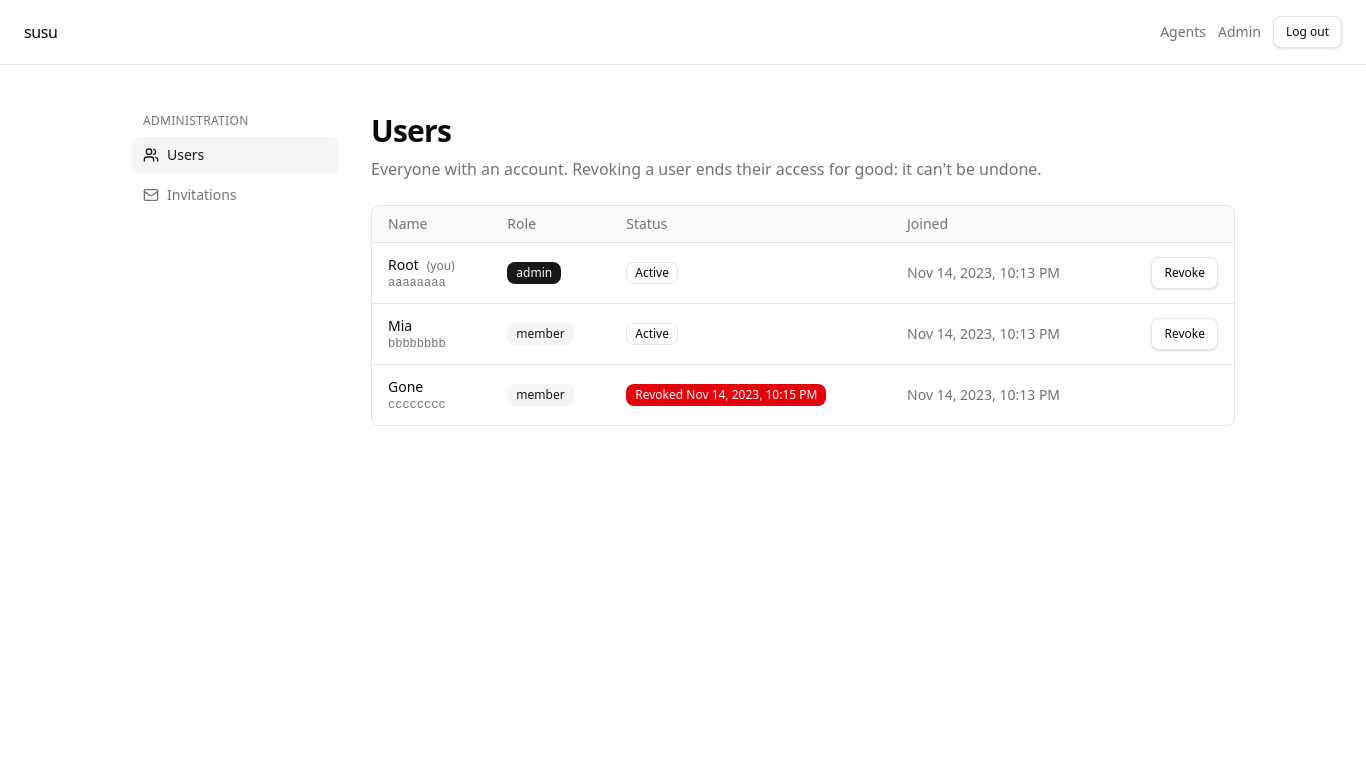
Test: users › cancelling revokes nothing
Click the button with aria-label "Revoke Mia". click: (1185, 334)
box: [1152, 318, 1218, 350]
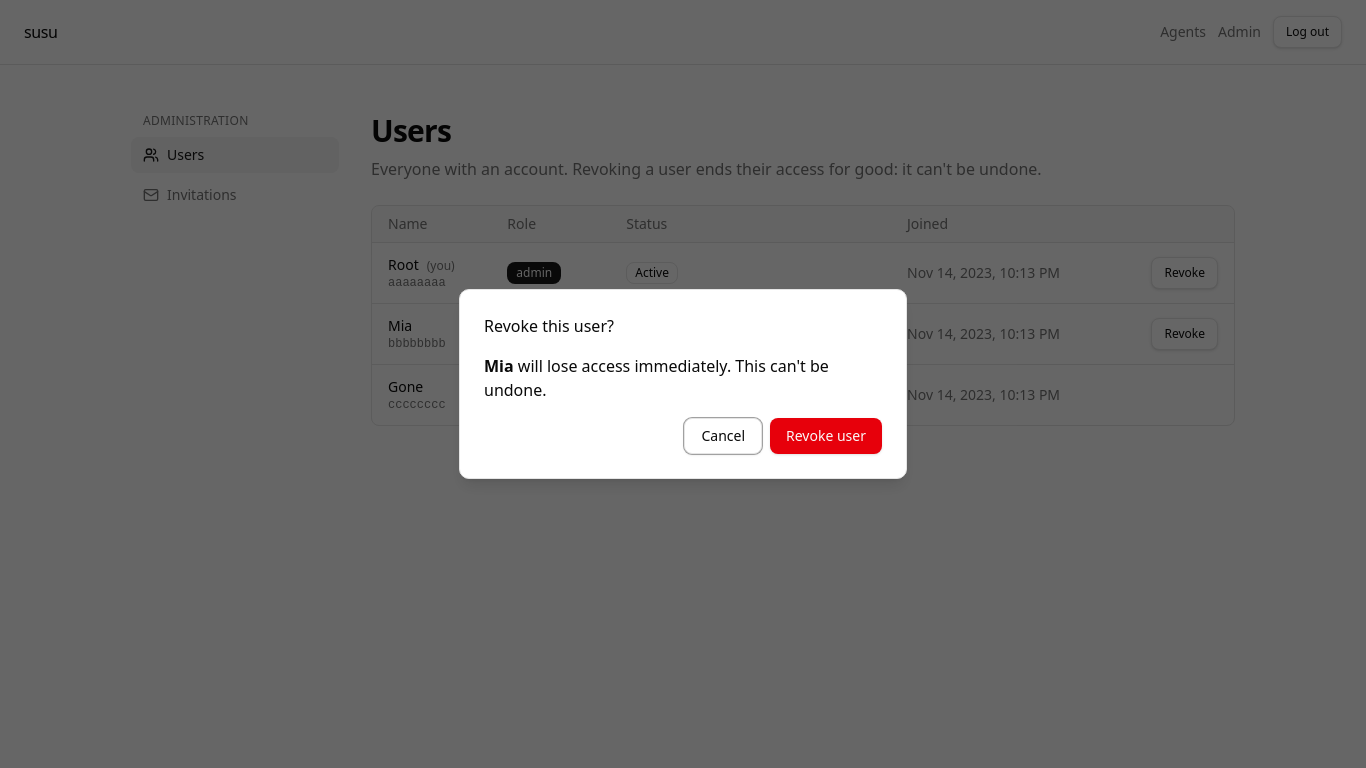
Click the button "Cancel". click: (723, 436)
box: [684, 418, 762, 454]
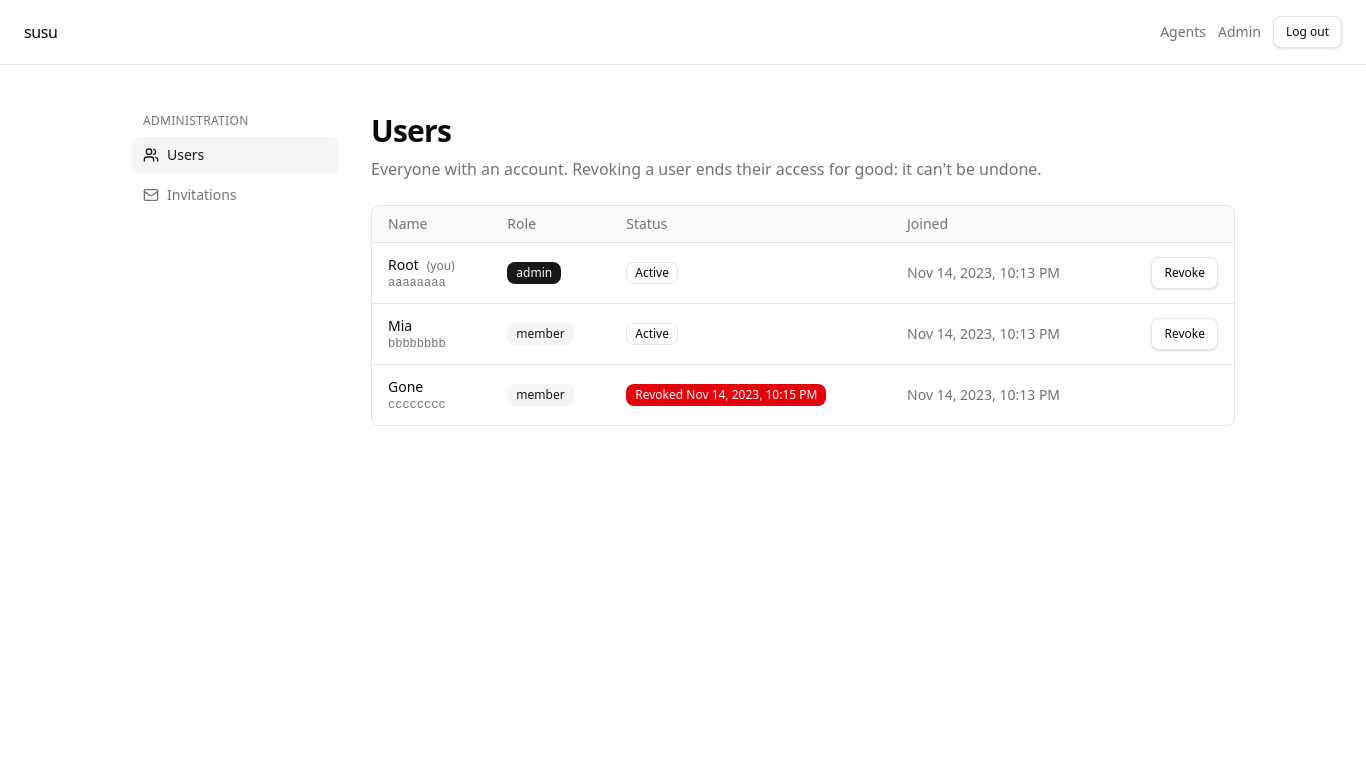
Expected: the dialog is gone
